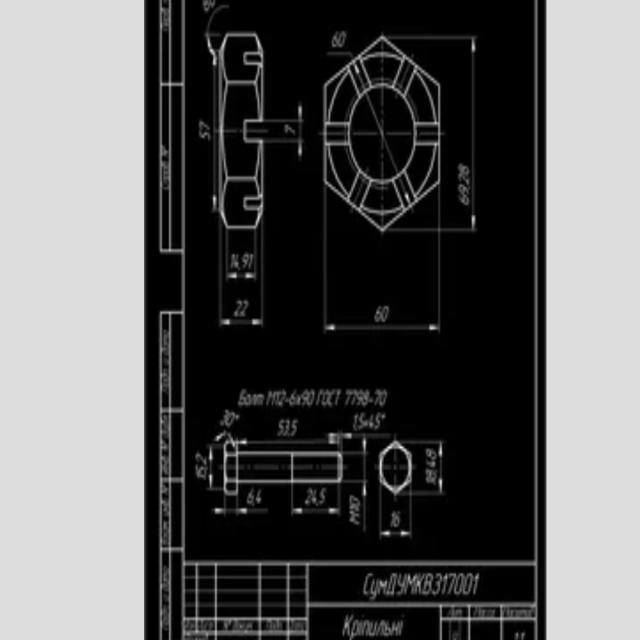marking_line: (319, 232, 443, 334), (443, 37, 477, 234), (217, 228, 264, 327), (264, 104, 305, 160), (345, 439, 369, 533), (415, 440, 445, 499), (289, 484, 341, 517), (224, 232, 258, 281), (377, 497, 413, 539), (210, 55, 219, 215), (213, 496, 267, 518), (239, 438, 338, 450), (345, 432, 395, 451), (207, 443, 224, 493)
numeric: (423, 469, 442, 487), (390, 510, 402, 529), (230, 250, 240, 270), (279, 389, 288, 410), (195, 466, 209, 479), (233, 299, 242, 319), (316, 390, 327, 406), (311, 487, 319, 509), (196, 450, 207, 466), (225, 413, 236, 428), (246, 488, 255, 506), (307, 390, 316, 407), (424, 447, 436, 459), (349, 495, 360, 508), (242, 298, 249, 318), (334, 387, 341, 407), (331, 31, 339, 48), (291, 420, 299, 437), (256, 488, 264, 505), (338, 32, 347, 47), (220, 410, 229, 425), (199, 132, 211, 143), (458, 164, 470, 175), (283, 124, 296, 134), (381, 306, 389, 322), (277, 418, 284, 436), (381, 388, 388, 406), (459, 194, 470, 205), (306, 486, 312, 506), (320, 485, 326, 505), (328, 390, 335, 407), (345, 388, 351, 407), (375, 412, 381, 431), (301, 390, 308, 406), (199, 119, 209, 130), (241, 252, 247, 270), (274, 390, 280, 408), (290, 390, 297, 405), (375, 305, 381, 322), (374, 389, 380, 406), (459, 175, 470, 184), (457, 185, 469, 193), (359, 413, 365, 429), (248, 252, 253, 271), (357, 389, 362, 408), (363, 390, 369, 405), (350, 506, 361, 514), (351, 390, 356, 406), (285, 419, 289, 437), (354, 412, 358, 429), (369, 415, 373, 429)
